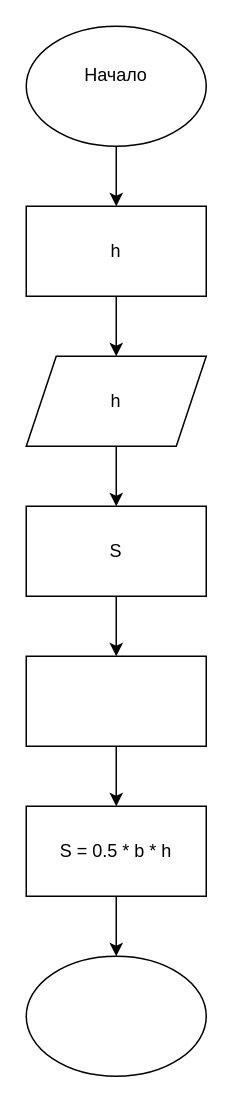
This 233x1103 diagram has some shape labels left out. Each missing label, with the centre of its shape:
b = 2 * h - 1: pixel 115 700
Конец: pixel 115 1015
